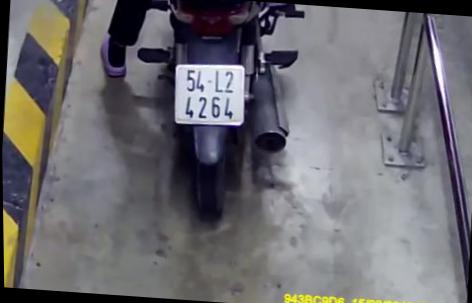LP: (171, 60, 249, 129)
